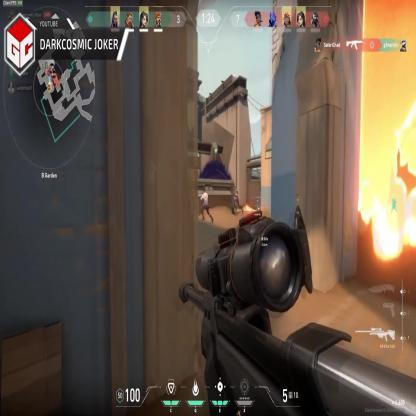enemy: (201, 190, 212, 223), (233, 186, 242, 214)
enemy_head: (202, 190, 206, 193), (234, 186, 236, 190)
